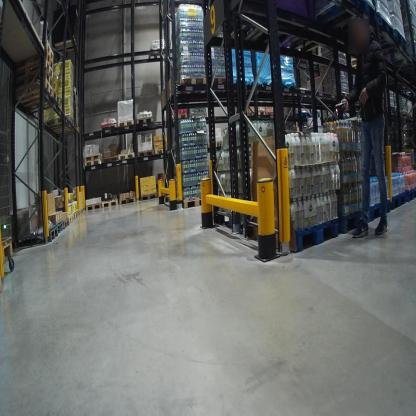pallet: (234, 216, 340, 252), (315, 2, 377, 40), (347, 14, 394, 53), (290, 23, 333, 63), (12, 224, 58, 251), (336, 206, 372, 239), (14, 79, 53, 108), (8, 50, 53, 74), (166, 188, 212, 210), (12, 60, 54, 84), (12, 68, 54, 92), (170, 70, 208, 95), (11, 39, 54, 60), (25, 91, 61, 116), (347, 53, 381, 74), (365, 198, 393, 222), (57, 34, 80, 57), (44, 115, 75, 132), (252, 76, 278, 93), (388, 190, 408, 211), (146, 45, 172, 59), (233, 76, 257, 91), (100, 118, 118, 138), (210, 73, 232, 89), (277, 75, 297, 92), (166, 110, 188, 125), (2, 238, 15, 262), (101, 192, 119, 208), (118, 117, 137, 132), (119, 190, 138, 205), (135, 149, 156, 162), (135, 113, 154, 127), (188, 110, 210, 122), (84, 200, 102, 214), (244, 109, 266, 120), (119, 150, 137, 163), (153, 146, 171, 158), (81, 152, 102, 162), (328, 93, 351, 102), (204, 141, 222, 151), (101, 154, 119, 164), (81, 159, 100, 168), (407, 183, 415, 200), (62, 218, 71, 232), (56, 221, 63, 236), (400, 108, 409, 117), (72, 210, 79, 221), (68, 213, 74, 225), (77, 208, 82, 216), (81, 206, 84, 211)
